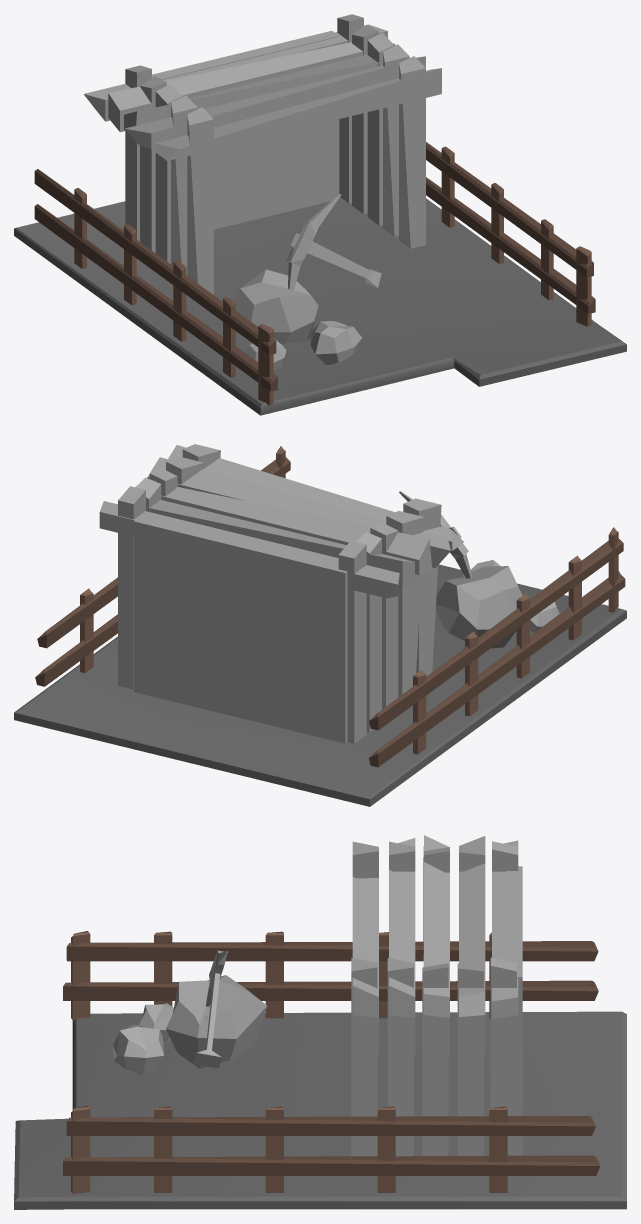
The model's file is mine_test.fbx.
The picture shows the model from 3 angles, top to bottom: view 1: azimuth 30°, elevation 25°; view 2: azimuth 150°, elevation 25°; view 3: azimuth 270°, elevation 25°; orthographic projection. The views are drawn at different scales.
Parts seen in each view (by area): view 1: polySurface46; view 2: polySurface46; view 3: polySurface46.
Part boxes in pixels (bbox=[...]): polySurface46: bbox=[14, 14, 626, 415]; polySurface46: bbox=[14, 444, 626, 806]; polySurface46: bbox=[14, 835, 626, 1209].
Size of the model in its own units: 398 by 214 by 550.
